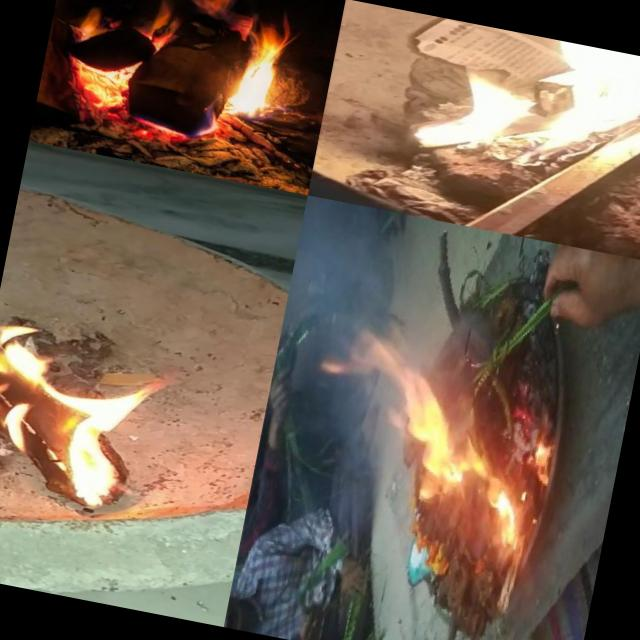fire: (353, 5, 640, 200), (35, 0, 294, 154), (0, 311, 161, 515), (383, 397, 502, 513), (475, 438, 560, 566), (318, 317, 442, 402)
smoke: (286, 195, 386, 324), (310, 381, 400, 506), (274, 307, 330, 382)
